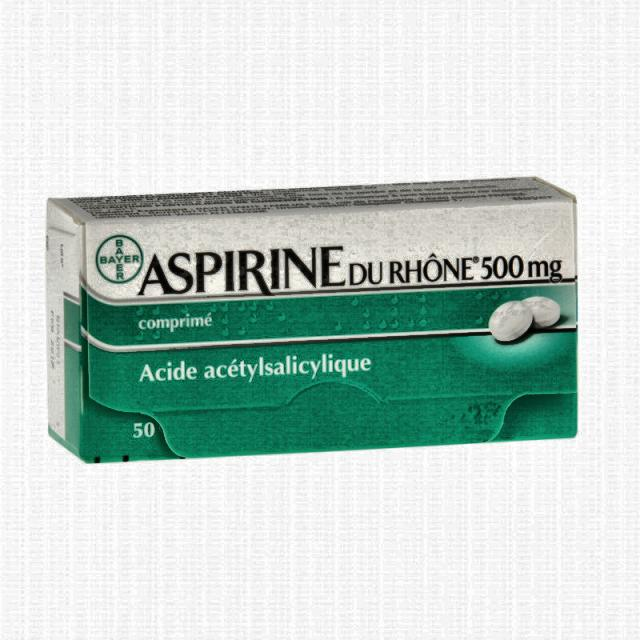Aspirin: (94, 228, 573, 308)
